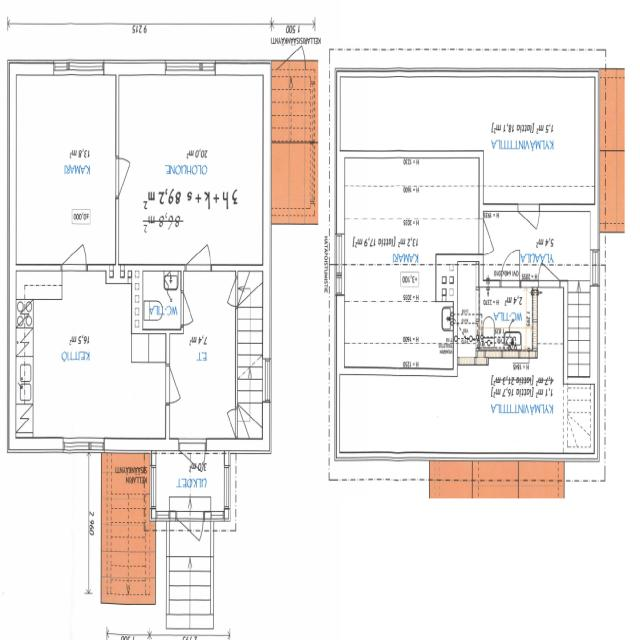door: (175, 510, 204, 568), (178, 437, 206, 496), (512, 594, 551, 636), (488, 594, 526, 636), (348, 599, 380, 640), (532, 478, 558, 526), (186, 224, 211, 272), (116, 156, 144, 198), (62, 225, 86, 271), (166, 365, 192, 404), (478, 218, 504, 254), (538, 246, 560, 288), (518, 204, 539, 246), (500, 249, 520, 288), (181, 292, 203, 325), (218, 278, 238, 307), (220, 409, 238, 436)
